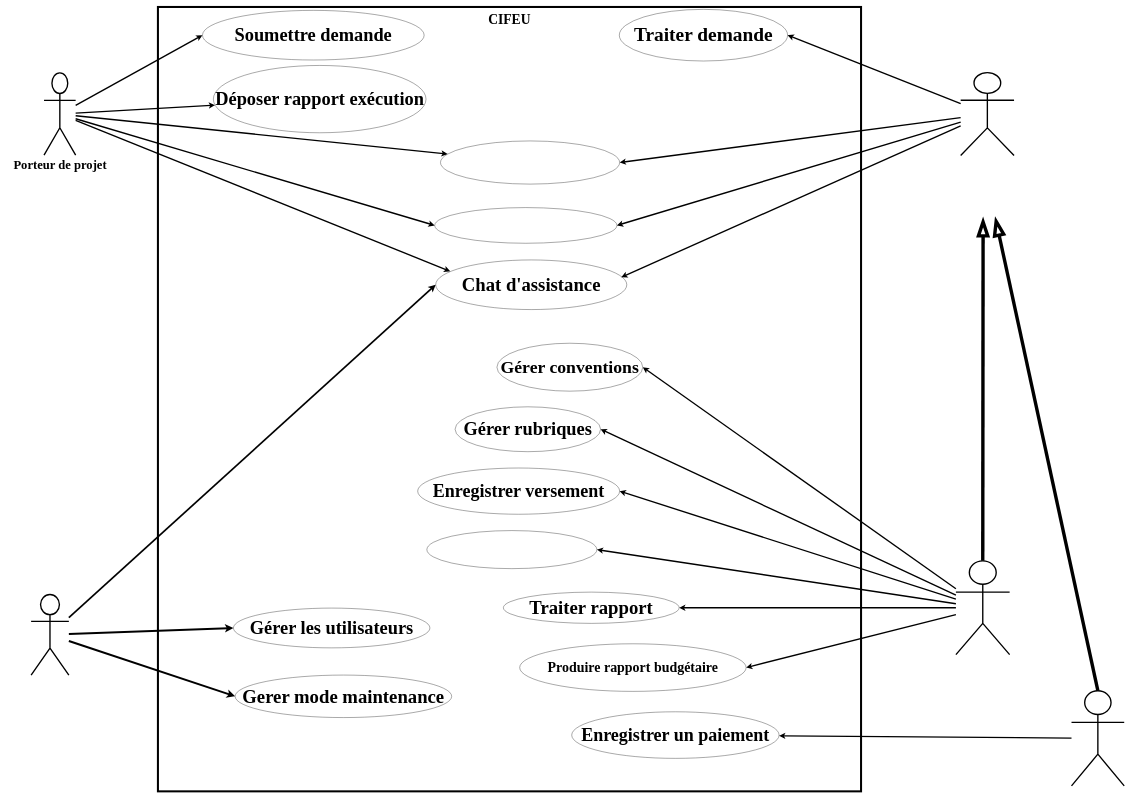
Image size: 1131x811. Some labels were removed from this diagram. The centre of each missing label's shape, as x and y in pixels:
AC: (1098,738)
Administrateur: (49,635)
Agent Financier: (987,114)
Clôturer projet: (512,549)
Consulter bilan: (525,225)
Consulter projet: (530,162)
DAF: (982,607)
